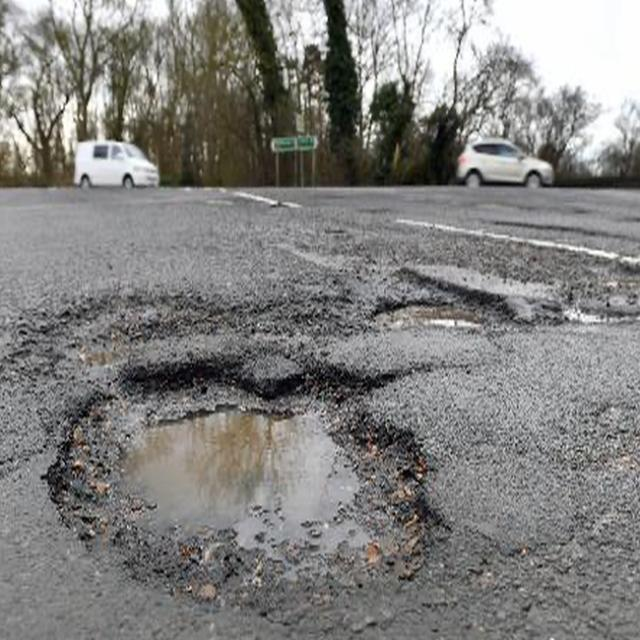Lubang: (57, 357, 440, 623), (366, 296, 504, 337)
